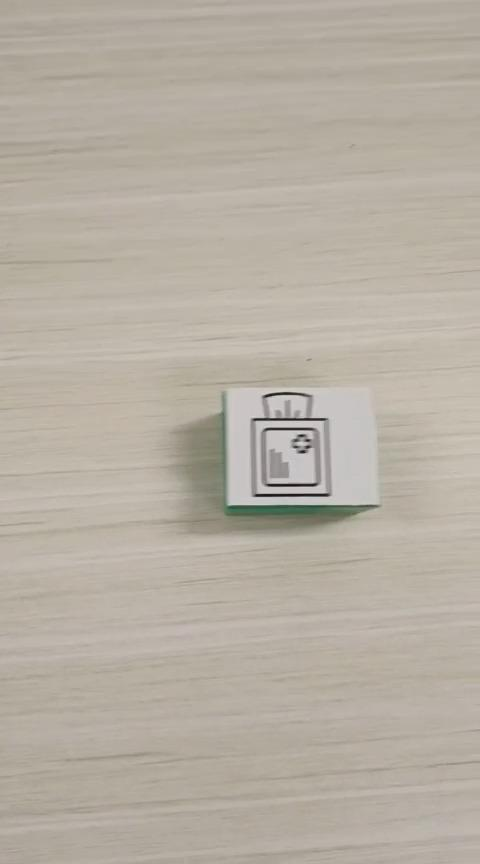Gauze: (219, 384, 381, 516)
